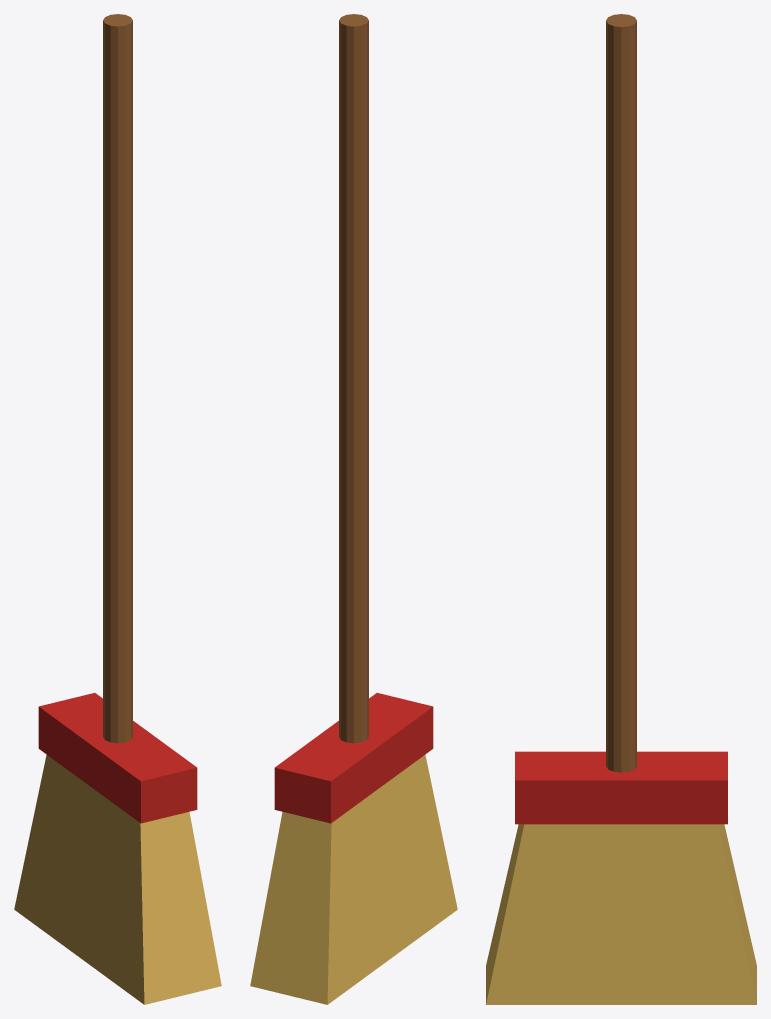
The model's file is Item_Broom.glb.
The picture shows the model from 3 angles, left to right: view 1: azimuth 30°, elevation 25°; view 2: azimuth 150°, elevation 25°; view 3: azimuth 270°, elevation 25°; orthographic projection. The views are drawn at different scales.
Parts seen in each view (by area): view 1: Item_Broom; view 2: Item_Broom; view 3: Item_Broom.
Part boxes in pixels (bbox=[...]): Item_Broom: bbox=[14, 14, 221, 1004]; Item_Broom: bbox=[250, 14, 457, 1004]; Item_Broom: bbox=[486, 14, 756, 1004].
Size of the model in its own units: 0.096 by 1.1 by 0.28.
